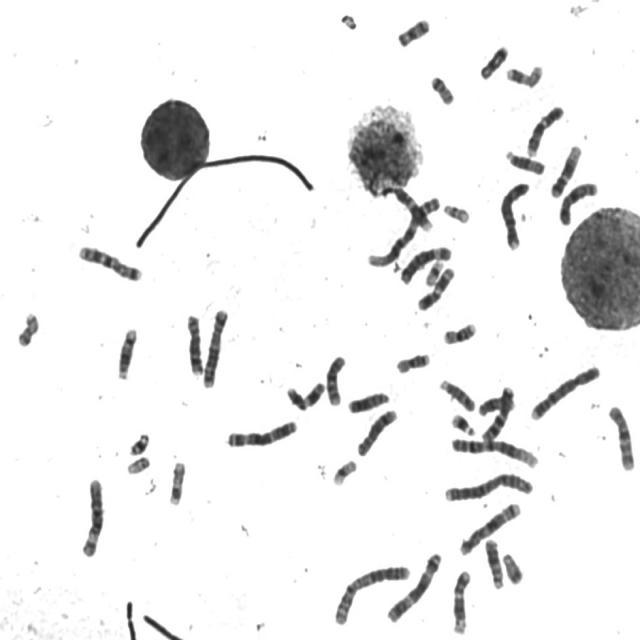A1: (364, 196, 441, 269), (449, 432, 541, 470)
A2: (332, 560, 414, 626), (441, 468, 535, 503)
A3: (384, 547, 444, 623), (224, 414, 300, 449)
B4: (527, 360, 603, 422), (498, 177, 533, 253)
B5: (456, 497, 524, 558), (199, 304, 231, 390)
C10: (605, 400, 638, 473), (322, 350, 348, 408)
C11: (414, 262, 456, 312), (283, 376, 328, 412)
C12: (548, 139, 584, 199), (449, 566, 474, 635)
C6: (398, 240, 453, 286), (78, 474, 106, 558)
C7: (75, 240, 144, 282), (479, 382, 517, 444)
C8: (354, 404, 400, 458), (182, 309, 205, 377)
C9: (524, 101, 566, 158), (394, 188, 434, 235)
D13: (482, 534, 506, 590), (345, 386, 392, 414)
D14: (114, 323, 140, 381), (476, 386, 518, 418)
D15: (437, 374, 478, 413), (502, 146, 547, 176)
E16: (440, 318, 480, 346), (393, 348, 432, 375)
E17: (504, 60, 546, 89), (166, 456, 188, 507)
E18: (394, 13, 432, 49), (477, 41, 511, 81)
F19: (330, 454, 360, 488), (422, 255, 447, 287)
F20: (14, 306, 42, 348), (427, 70, 457, 106)
G21: (448, 408, 478, 438), (126, 428, 152, 456)
G22: (440, 199, 472, 224), (124, 452, 152, 475)
X: (556, 177, 601, 227)
Y: (500, 548, 526, 586)
